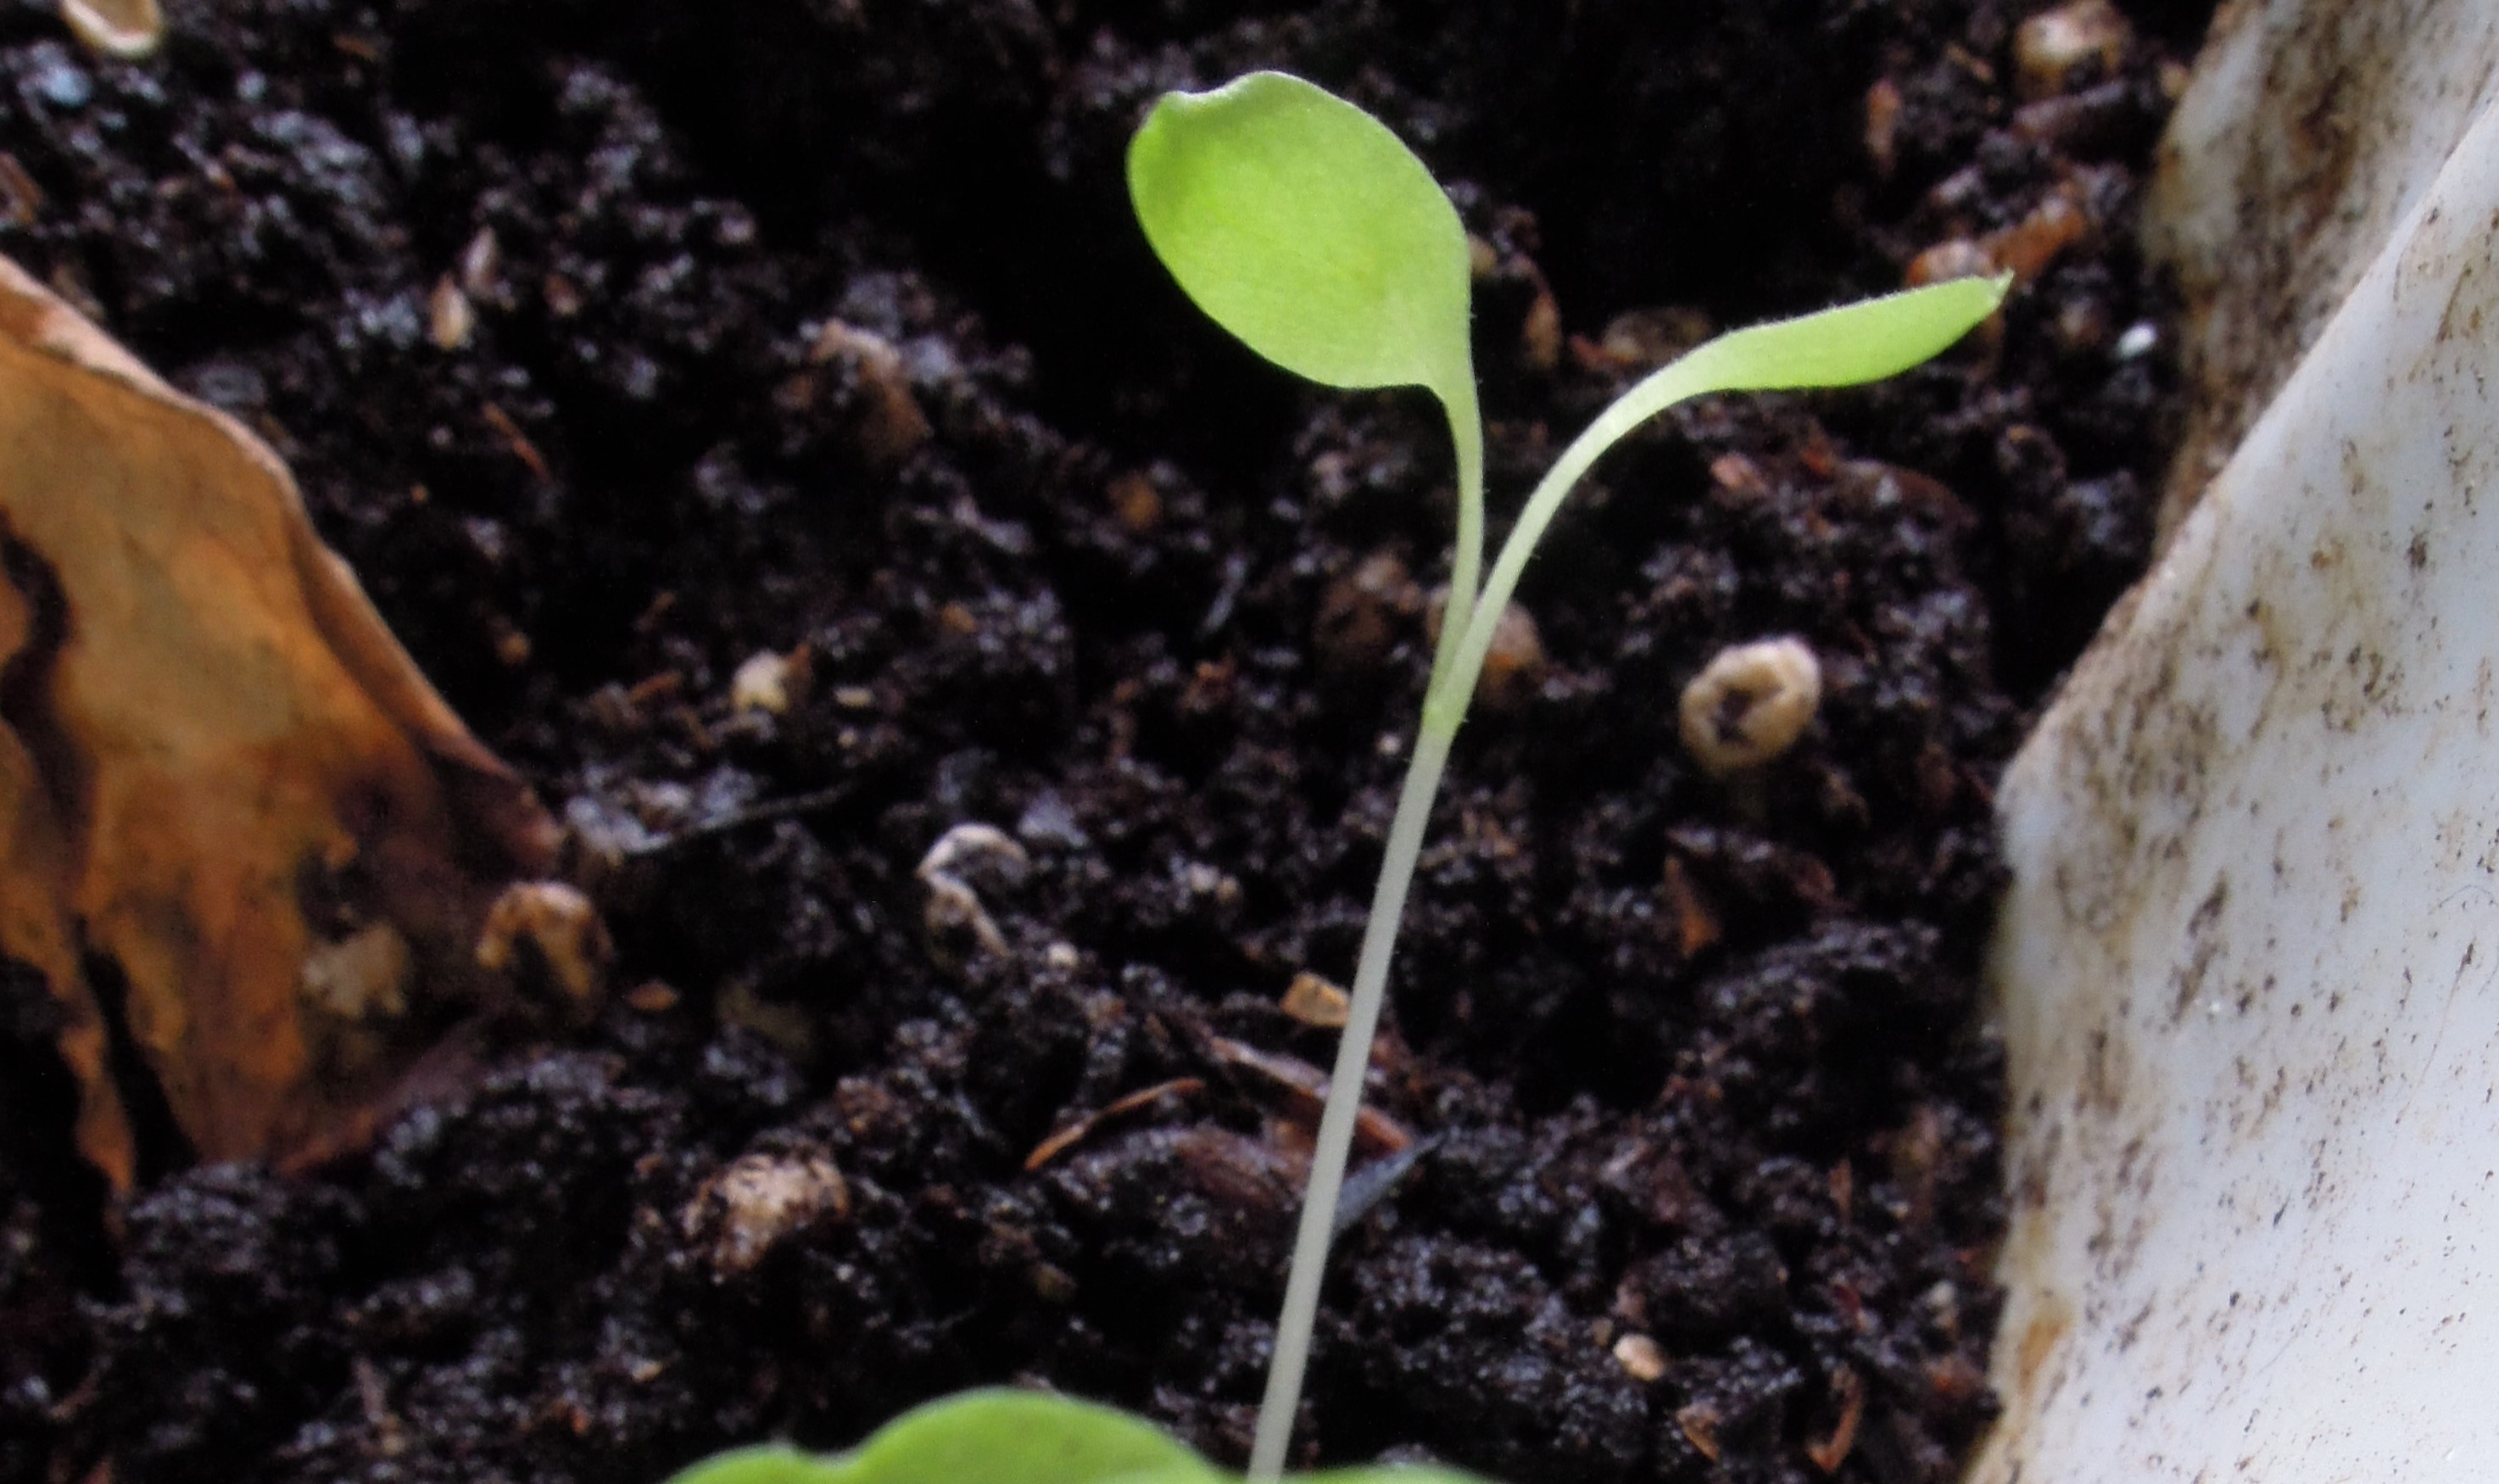week1: (1422, 131, 2068, 606), (1107, 14, 1526, 611)
